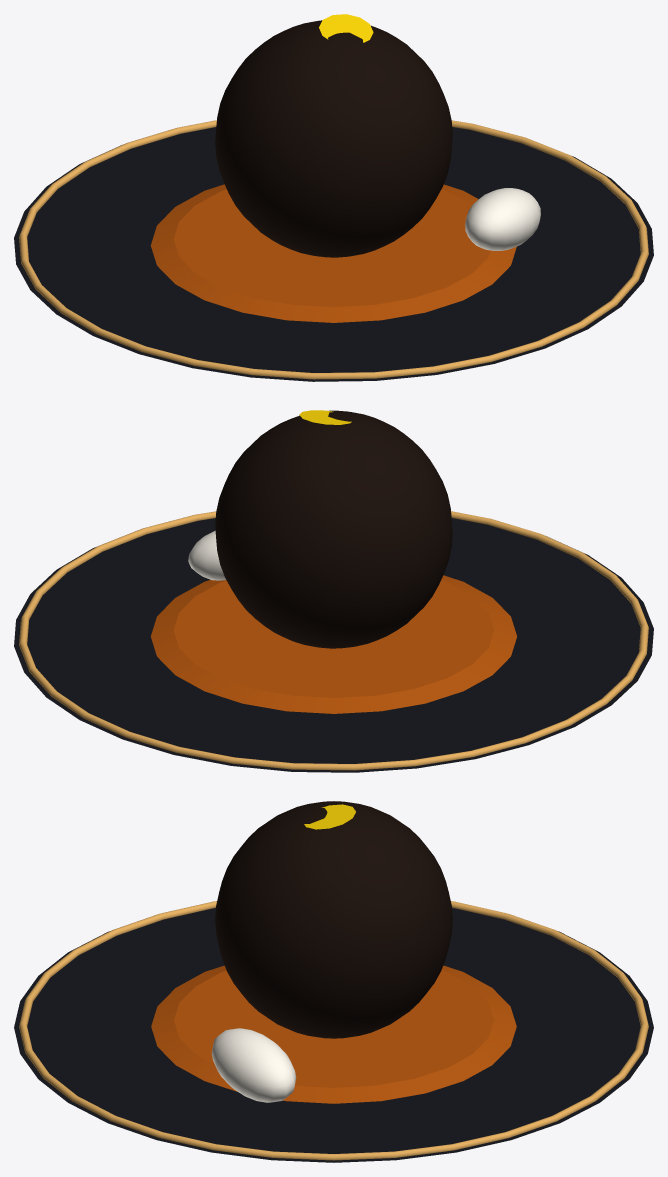
File: chocolate-sphere.glb
The picture shows the model from 3 angles, top to bottom: view 1: azimuth 30°, elevation 25°; view 2: azimuth 150°, elevation 25°; view 3: azimuth 270°, elevation 25°; orthographic projection.
Bounding box in the file's own units: 2.8 × 1.14 × 2.8.
